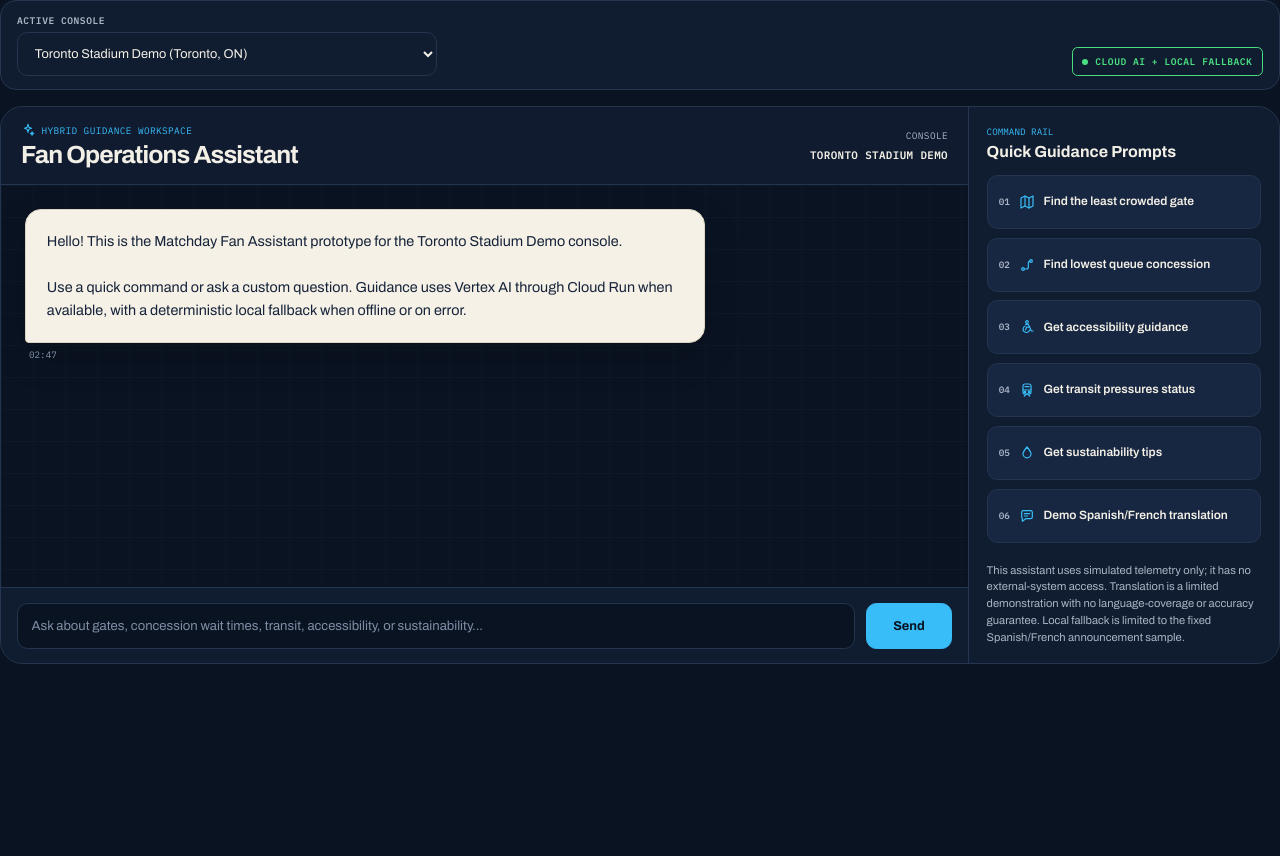
Test: Fan Assistant API Integration & Fallback Flow › displays loading state and prevents duplicate submission while request is in flight
Replace the text in the field named "Ask the Fan Operations Assistant" with "How crowded is Gate A?" at (436, 626), box [17, 603, 855, 649]
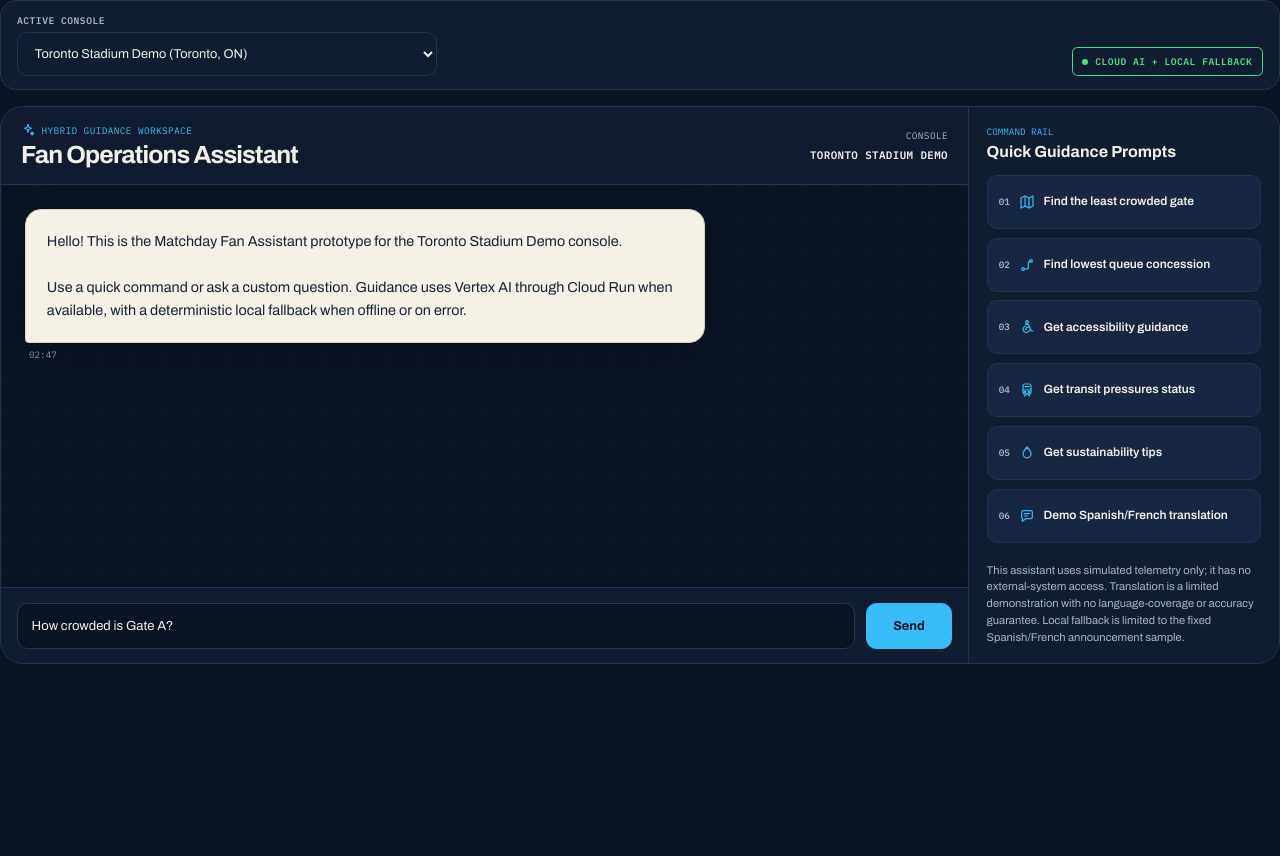
Click the button "Send" at (909, 626), box [866, 603, 952, 649]
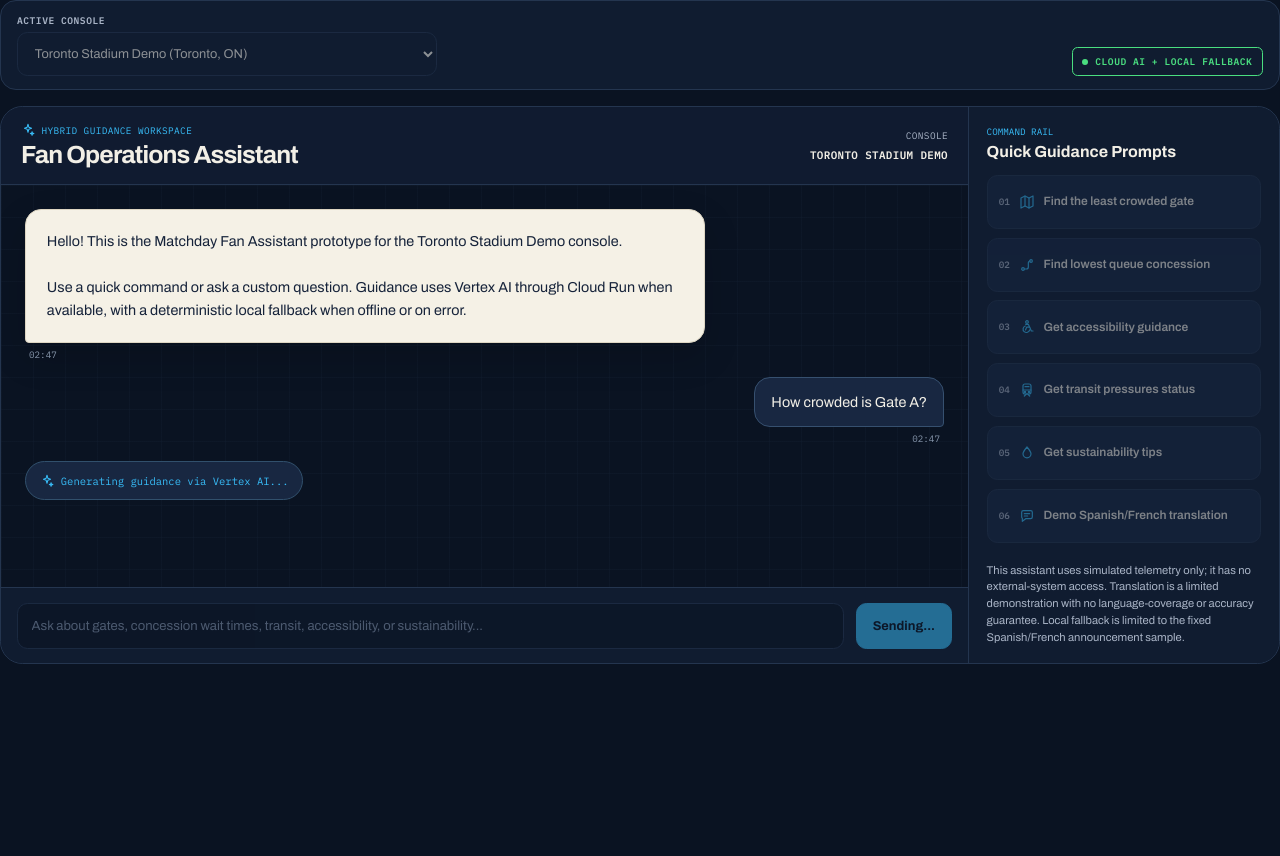
Now the text "Generating guidance via Vertex AI..." is shown, box [25, 461, 303, 500]
Now the button "Sending..." is disabled, box [856, 603, 952, 649]
Now the field named "Ask the Fan Operations Assistant" is disabled, box [17, 603, 844, 649]
Click the button "01 Find the least crowded gate" at (1124, 202), box [987, 175, 1261, 229]
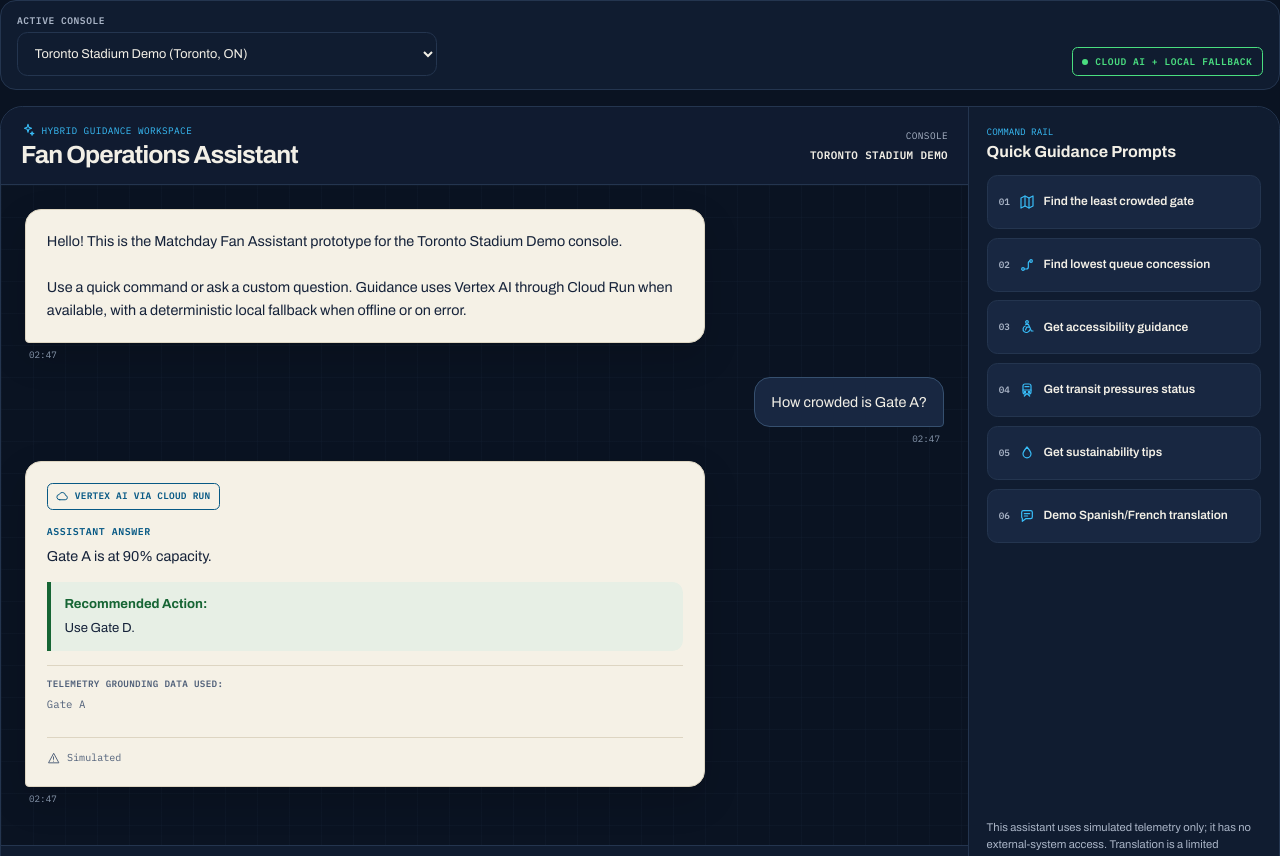
Now the text "Gate A is at 90% capacity." is shown, box [47, 548, 212, 564]
